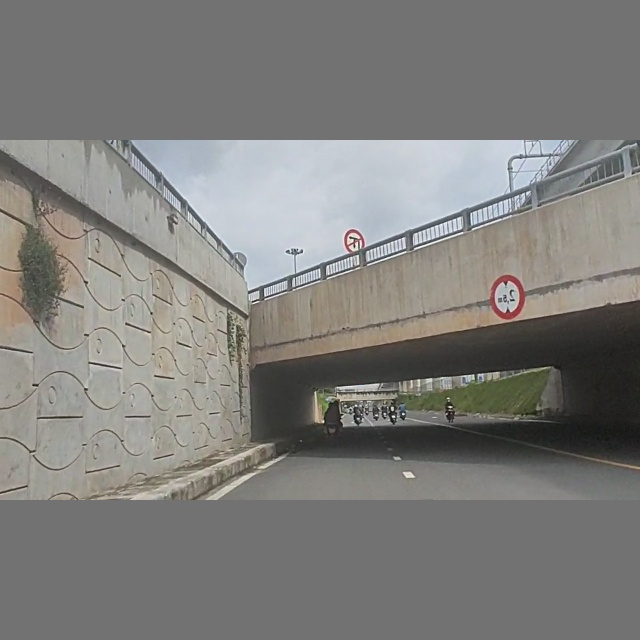P.117*: (488, 273, 526, 319)
P.124d: (343, 227, 366, 254)
